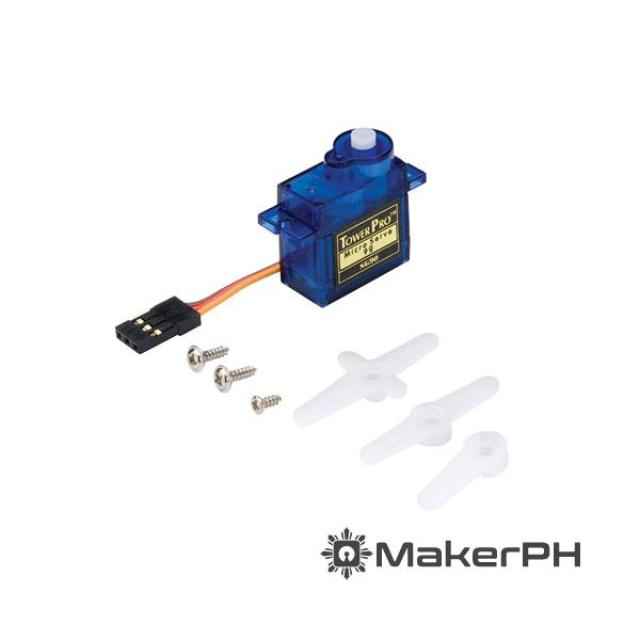motor: (253, 115, 452, 312)
